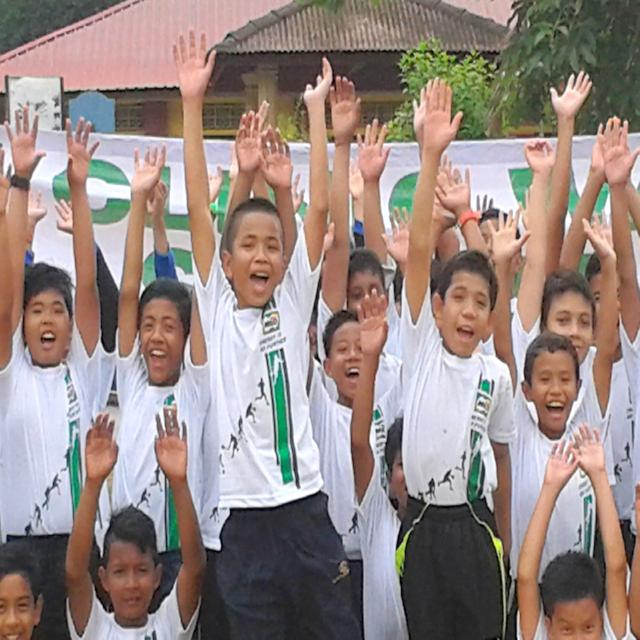body: (169, 23, 361, 640), (393, 72, 516, 640), (484, 203, 621, 640), (0, 101, 107, 640), (110, 142, 228, 617), (58, 398, 212, 640), (306, 308, 406, 598), (515, 421, 632, 640), (348, 286, 414, 640), (545, 69, 640, 262), (582, 251, 638, 574), (209, 95, 298, 252), (349, 84, 411, 255), (322, 203, 412, 320), (434, 152, 528, 264), (0, 548, 48, 639), (142, 182, 182, 285), (96, 240, 117, 420), (492, 263, 519, 383), (28, 182, 74, 252), (0, 153, 16, 353), (629, 474, 640, 640)
